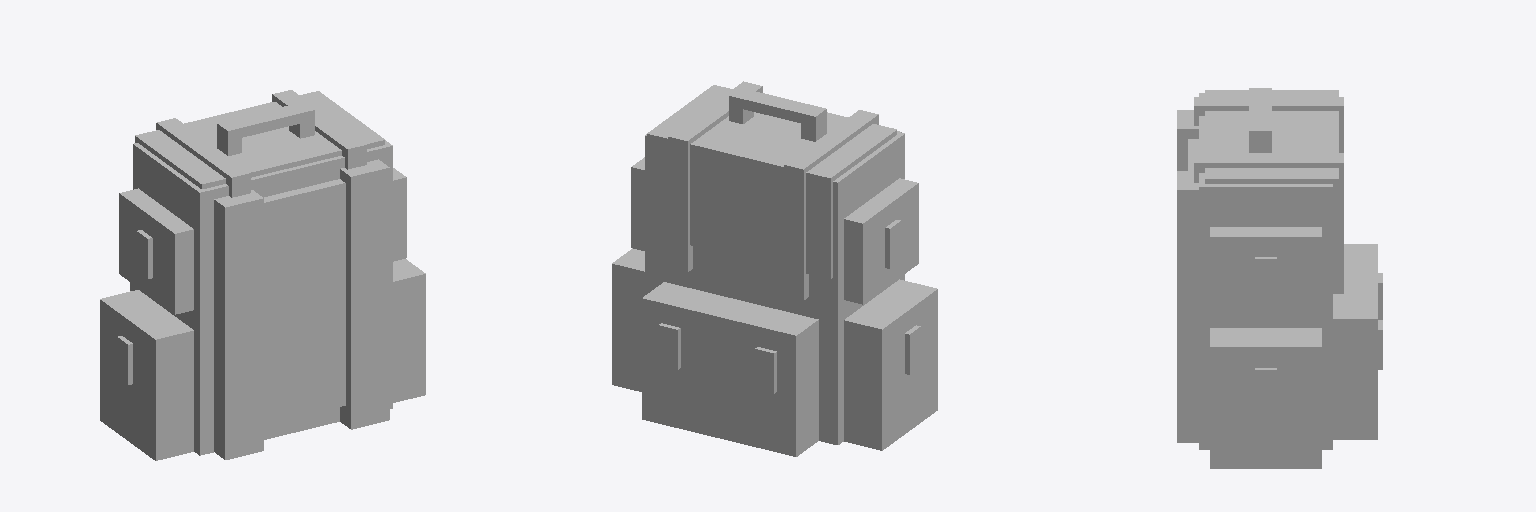
Rendered from backpack_base.obj.
The picture shows the model from 3 angles: view 1: azimuth 30°, elevation 25°; view 2: azimuth 150°, elevation 25°; view 3: azimuth 270°, elevation 25°; orthographic projection.
Parts seen in each view (by area): view 1: padding1, body, top3, pouch1, outer2, trim1, trim2, lip1, inner1, top2, outer1, inner2 (+13 smaller); view 2: top1, body, lip1, top3, pouch1, right_trim1, right2, trim3, bottom1, left2, left_trim1, top2 (+16 smaller); view 3: body, top2, pouch2, top1, outer1, lip1, left2, left_trim1, bottom2, trim4, right2, top4 (+7 smaller).
Boxes of the visible parts, x1=… form: padding1: x1=264, y1=179, x2=345, y2=424; body: x1=133, y1=140, x2=392, y2=455; top3: x1=100, y1=290, x2=193, y2=420; pouch1: x1=119, y1=188, x2=193, y2=314; outer2: x1=214, y1=197, x2=234, y2=459; trim1: x1=225, y1=195, x2=253, y2=457; trim2: x1=352, y1=162, x2=379, y2=426; lip1: x1=155, y1=102, x2=341, y2=184; inner1: x1=340, y1=168, x2=360, y2=429; top2: x1=393, y1=259, x2=425, y2=362; outer1: x1=370, y1=159, x2=389, y2=422; inner2: x1=246, y1=190, x2=263, y2=452; top1: x1=642, y1=282, x2=818, y2=416; body: x1=645, y1=132, x2=904, y2=444; lip1: x1=666, y1=112, x2=876, y2=254; top3: x1=844, y1=279, x2=937, y2=409; pouch1: x1=844, y1=178, x2=918, y2=304; right_trim1: x1=811, y1=125, x2=896, y2=279; right2: x1=784, y1=110, x2=878, y2=260; trim3: x1=642, y1=379, x2=818, y2=436; bottom1: x1=642, y1=399, x2=818, y2=456; left2: x1=668, y1=81, x2=762, y2=231; left_trim1: x1=647, y1=85, x2=732, y2=238; top2: x1=612, y1=248, x2=644, y2=351; body: x1=1199, y1=93, x2=1332, y2=449; top2: x1=1210, y1=328, x2=1321, y2=427; pouch2: x1=1210, y1=227, x2=1321, y2=317; top1: x1=1333, y1=244, x2=1377, y2=399; outer1: x1=1177, y1=185, x2=1198, y2=442; lip1: x1=1205, y1=111, x2=1338, y2=169; left2: x1=1194, y1=153, x2=1343, y2=253; left_trim1: x1=1205, y1=170, x2=1338, y2=280; bottom2: x1=1210, y1=448, x2=1321, y2=468; trim4: x1=1210, y1=428, x2=1321, y2=447; right2: x1=1194, y1=97, x2=1343, y2=152; top4: x1=1249, y1=88, x2=1271, y2=140.
Size of the model in its own units: 0.9062 by 0.9062 by 0.5781.